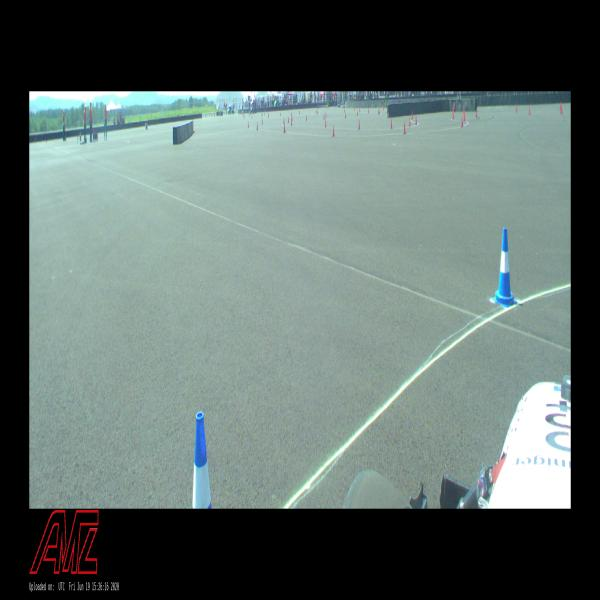blue_cone: (192, 412, 212, 508), (495, 228, 514, 305)
unknown_cone: (403, 122, 406, 134), (332, 125, 335, 136), (461, 116, 463, 127), (408, 116, 410, 127), (561, 104, 563, 114), (390, 119, 392, 129), (475, 108, 477, 118), (358, 119, 360, 129), (415, 116, 417, 125), (452, 112, 454, 120), (411, 111, 413, 119), (284, 124, 286, 132), (356, 110, 358, 116), (323, 113, 325, 119), (283, 118, 285, 124), (368, 107, 370, 112), (529, 106, 530, 114), (516, 104, 517, 112), (560, 102, 561, 110), (454, 104, 455, 112), (382, 106, 384, 110), (257, 122, 258, 130), (244, 114, 246, 118), (464, 114, 465, 121), (291, 119, 292, 126), (262, 118, 263, 125), (288, 116, 289, 122), (379, 108, 380, 114), (345, 112, 346, 118), (325, 120, 326, 126), (306, 114, 307, 120), (248, 122, 249, 128), (214, 113, 216, 116), (378, 108, 379, 114), (359, 107, 360, 112), (299, 110, 300, 115), (317, 110, 318, 114), (280, 112, 281, 116), (251, 114, 252, 118), (291, 112, 292, 116), (264, 111, 265, 115), (243, 114, 244, 118), (464, 107, 464, 114), (326, 112, 326, 118), (316, 109, 316, 113), (292, 114, 292, 120), (268, 113, 268, 117), (262, 112, 262, 117), (354, 107, 354, 111), (344, 108, 344, 112), (249, 113, 249, 117)
